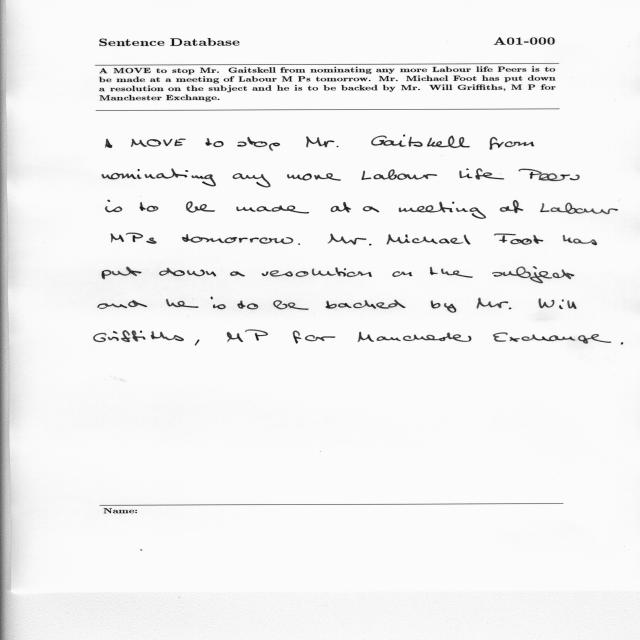word: (102, 169, 216, 187), (399, 201, 486, 219), (493, 332, 611, 344), (492, 267, 574, 284), (371, 135, 470, 148), (358, 332, 472, 342), (182, 234, 293, 244), (262, 267, 372, 277), (94, 330, 184, 342), (328, 233, 410, 246), (477, 298, 554, 310), (540, 203, 618, 214), (362, 169, 438, 180), (519, 169, 580, 181), (326, 300, 406, 309), (406, 235, 471, 245), (237, 205, 309, 214), (237, 137, 280, 151), (494, 233, 543, 245), (490, 137, 534, 150), (293, 331, 335, 344), (459, 168, 504, 180), (233, 173, 271, 187), (102, 267, 141, 280), (111, 233, 157, 244), (131, 138, 186, 147), (227, 330, 268, 342), (430, 267, 473, 278), (159, 268, 216, 276), (98, 300, 147, 309), (287, 173, 341, 181), (273, 300, 309, 310), (306, 137, 338, 148), (186, 201, 215, 213), (563, 235, 597, 245), (431, 300, 456, 313), (500, 200, 523, 213), (166, 299, 199, 308), (105, 200, 122, 212), (331, 202, 351, 212), (210, 297, 226, 309), (237, 301, 258, 310), (140, 202, 158, 212), (559, 299, 577, 309), (206, 138, 224, 147), (393, 271, 413, 277), (363, 206, 379, 212), (230, 272, 245, 277), (106, 139, 113, 148), (195, 340, 199, 346), (621, 342, 623, 345), (298, 243, 300, 245)
